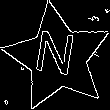N_S: (34, 30, 82, 86)
